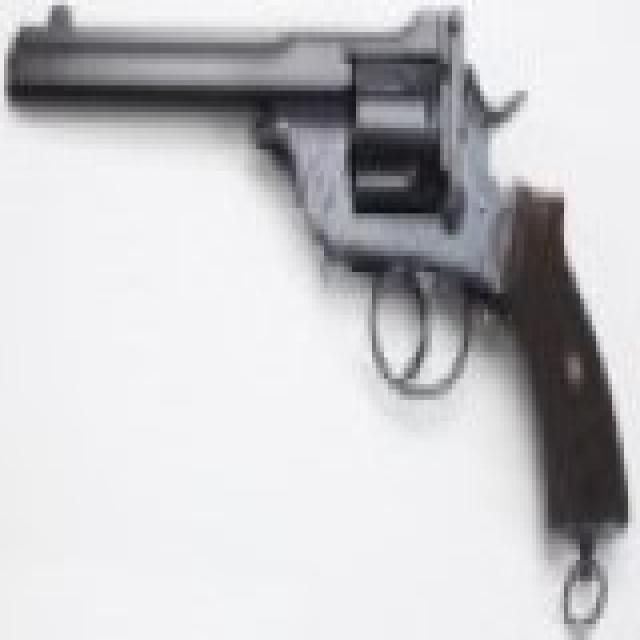Gun: (9, 6, 637, 558)
